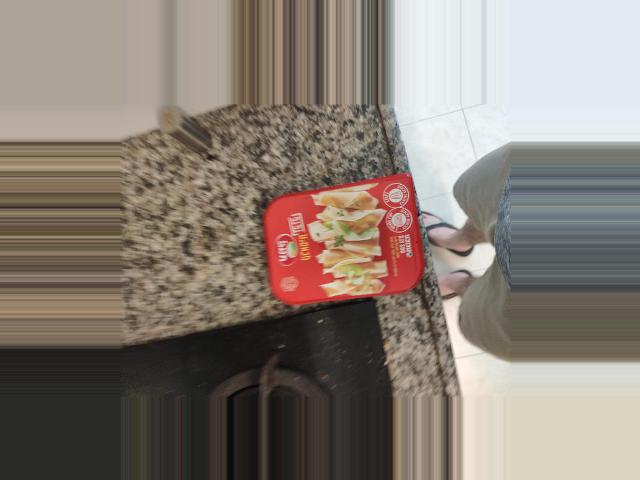cheese: (206, 193, 360, 324)
